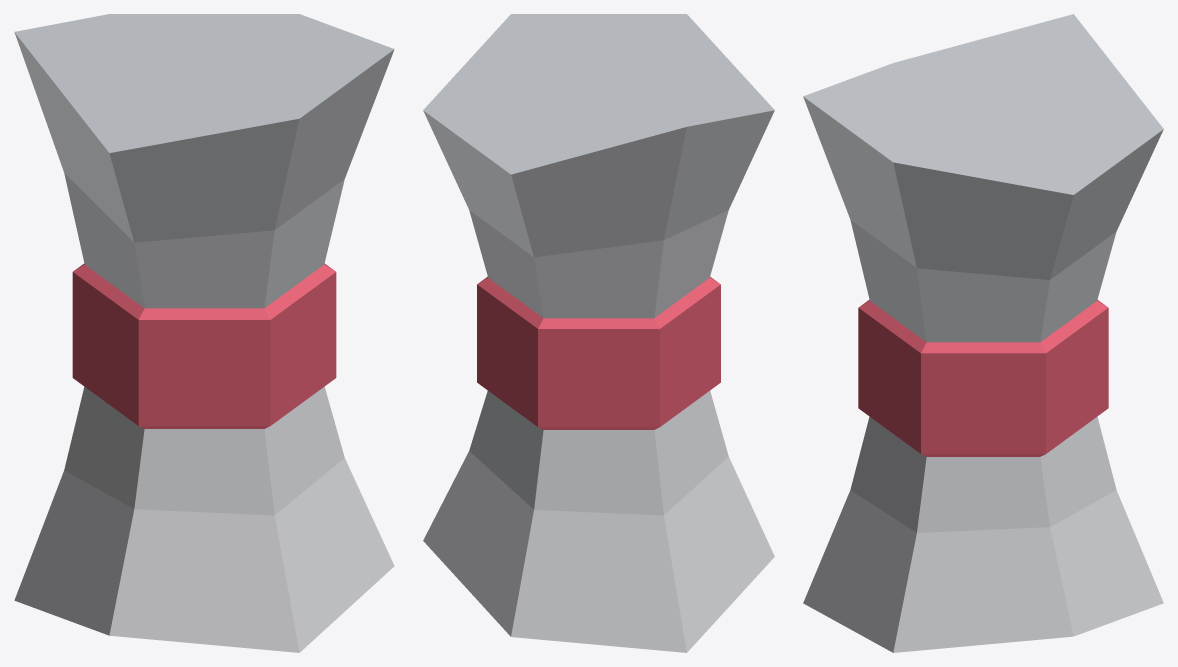
Rendered from Bandages.fbx.
3 renders of one model, left to right at view 1: azimuth 30°, elevation 25°; view 2: azimuth 150°, elevation 25°; view 3: azimuth 270°, elevation 25°, orthographic. The views are drawn at different scales.
Parts seen in each view (by area): view 1: Cylinder; view 2: Cylinder; view 3: Cylinder.
Part boxes in pixels (x1,y1,x2,y2): Cylinder: [14, 14, 394, 652]; Cylinder: [423, 14, 774, 652]; Cylinder: [803, 14, 1163, 652].
Bounding box in the file's own units: 173 × 330 × 200.
